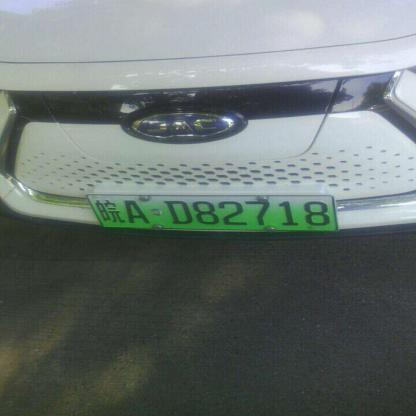lp: (84, 194, 338, 230)
